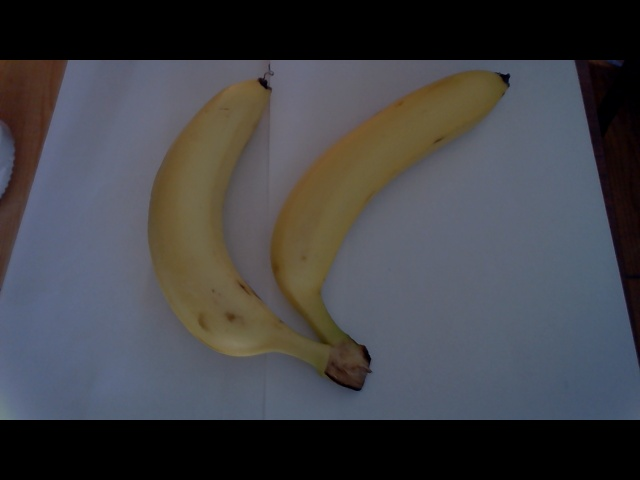banana: (284, 79, 505, 372), (149, 91, 291, 353)
